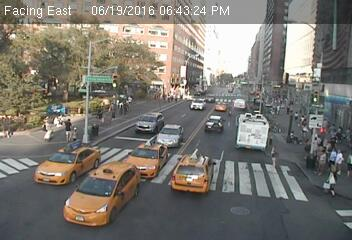neg: (282, 120, 299, 142), (149, 84, 161, 100), (121, 92, 133, 108)
pos: (317, 161, 345, 198), (326, 145, 351, 180), (263, 141, 287, 173), (312, 147, 335, 178), (58, 116, 78, 143), (323, 144, 343, 170), (339, 149, 351, 176), (38, 115, 53, 134), (105, 103, 119, 122), (95, 105, 109, 123), (299, 124, 312, 142), (68, 126, 80, 142), (299, 113, 308, 124), (292, 110, 300, 122), (329, 120, 337, 130), (301, 117, 308, 125)
